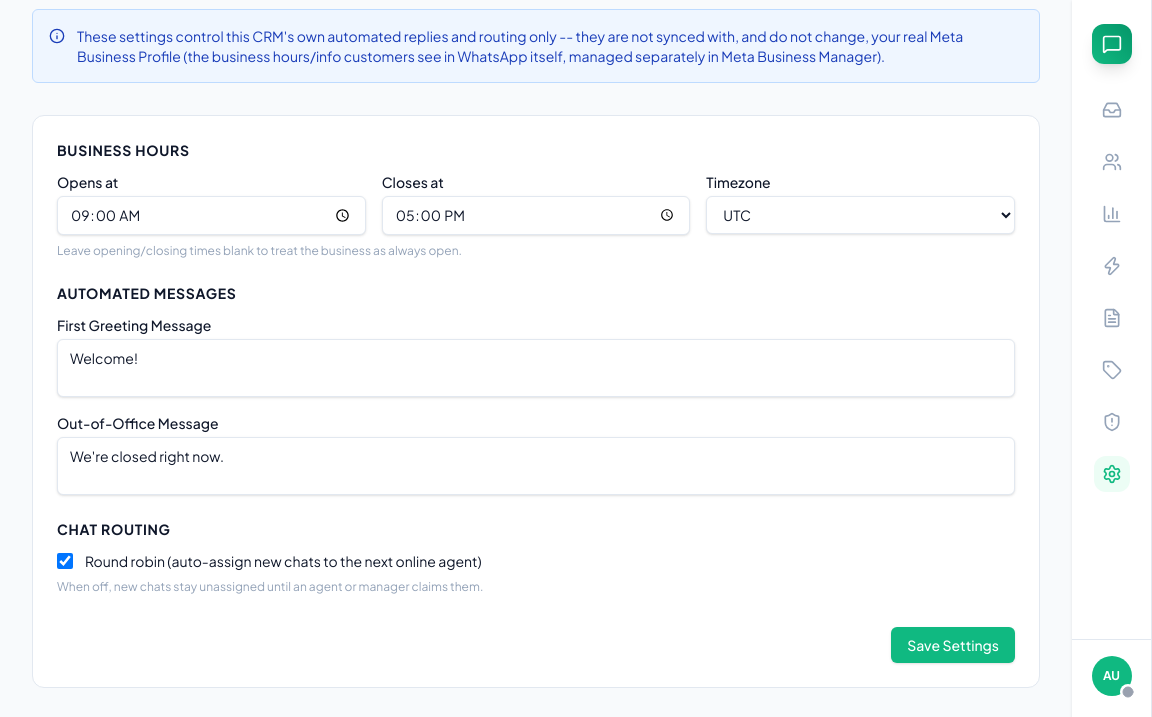
Test: Admin Business Settings Page › shows an inline error when saving fails
(page scrolled)
Check: the text box showing "Welcome!" is shown, box [57, 339, 1015, 397]
Click the button "Save Settings" at point(953, 645), box [891, 627, 1015, 663]
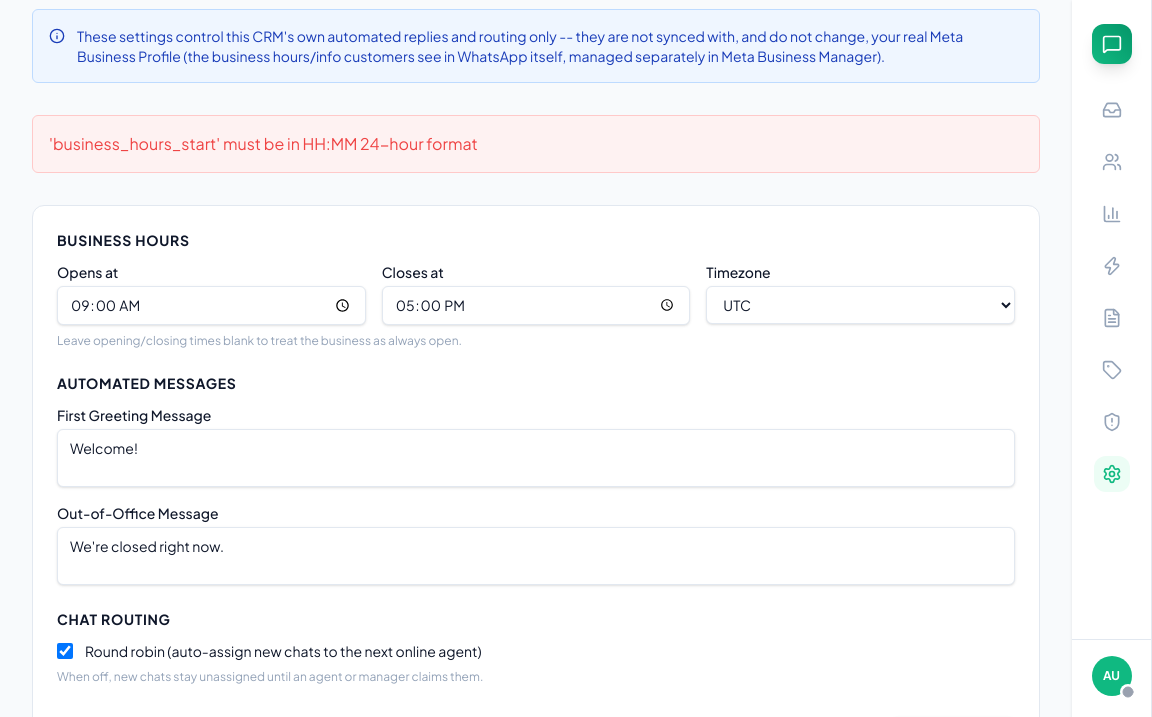
Check: the text "'business_hours_start' must be in HH:MM 24-hour format" is shown, box [32, 115, 1040, 173]
